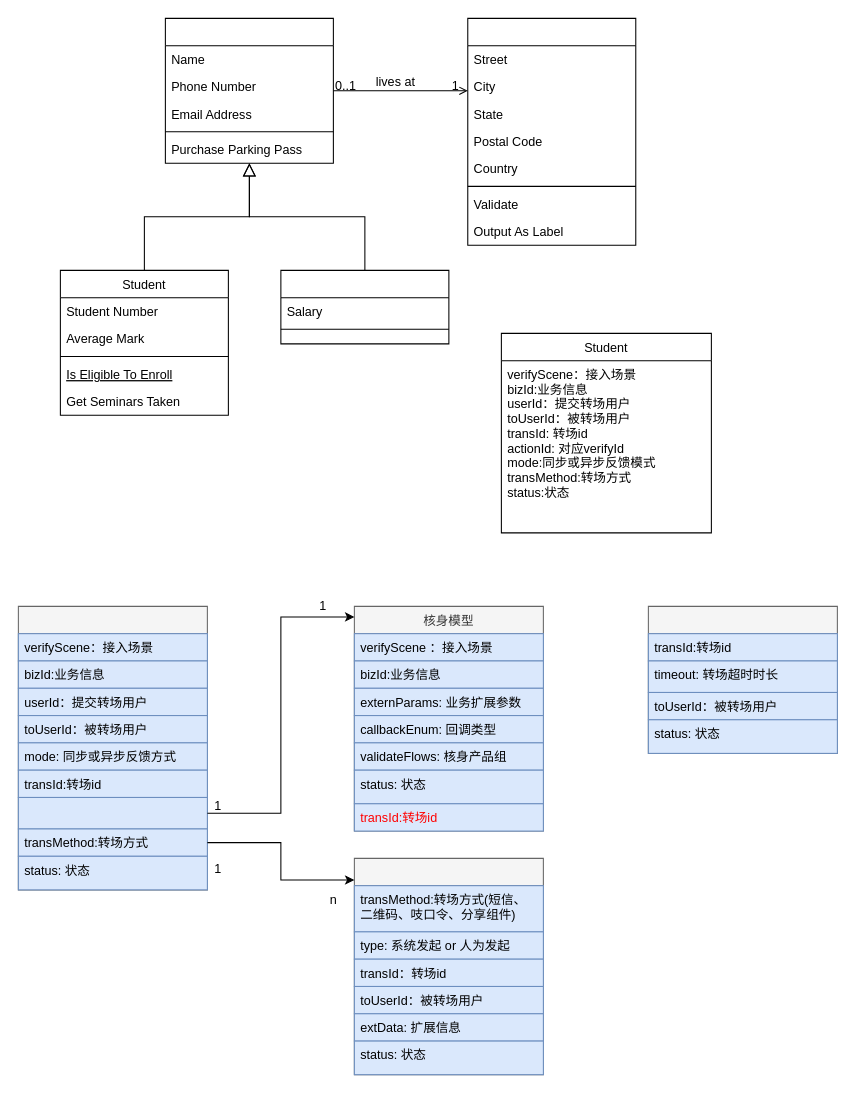
Image size: 856x1096. Some labels were removed from this diagram. Here are the shapes that lost their labels. From the top down, the box of each, then its label:
(164, 17, 333, 163): Person
(467, 17, 636, 245): Address
(280, 269, 449, 344): Professor
(647, 605, 837, 753): 状态机模型
(17, 605, 207, 890): 转场模型
(17, 796, 207, 829): actionId: 对应核身会话id
(353, 857, 543, 1075): 转场方式模型
